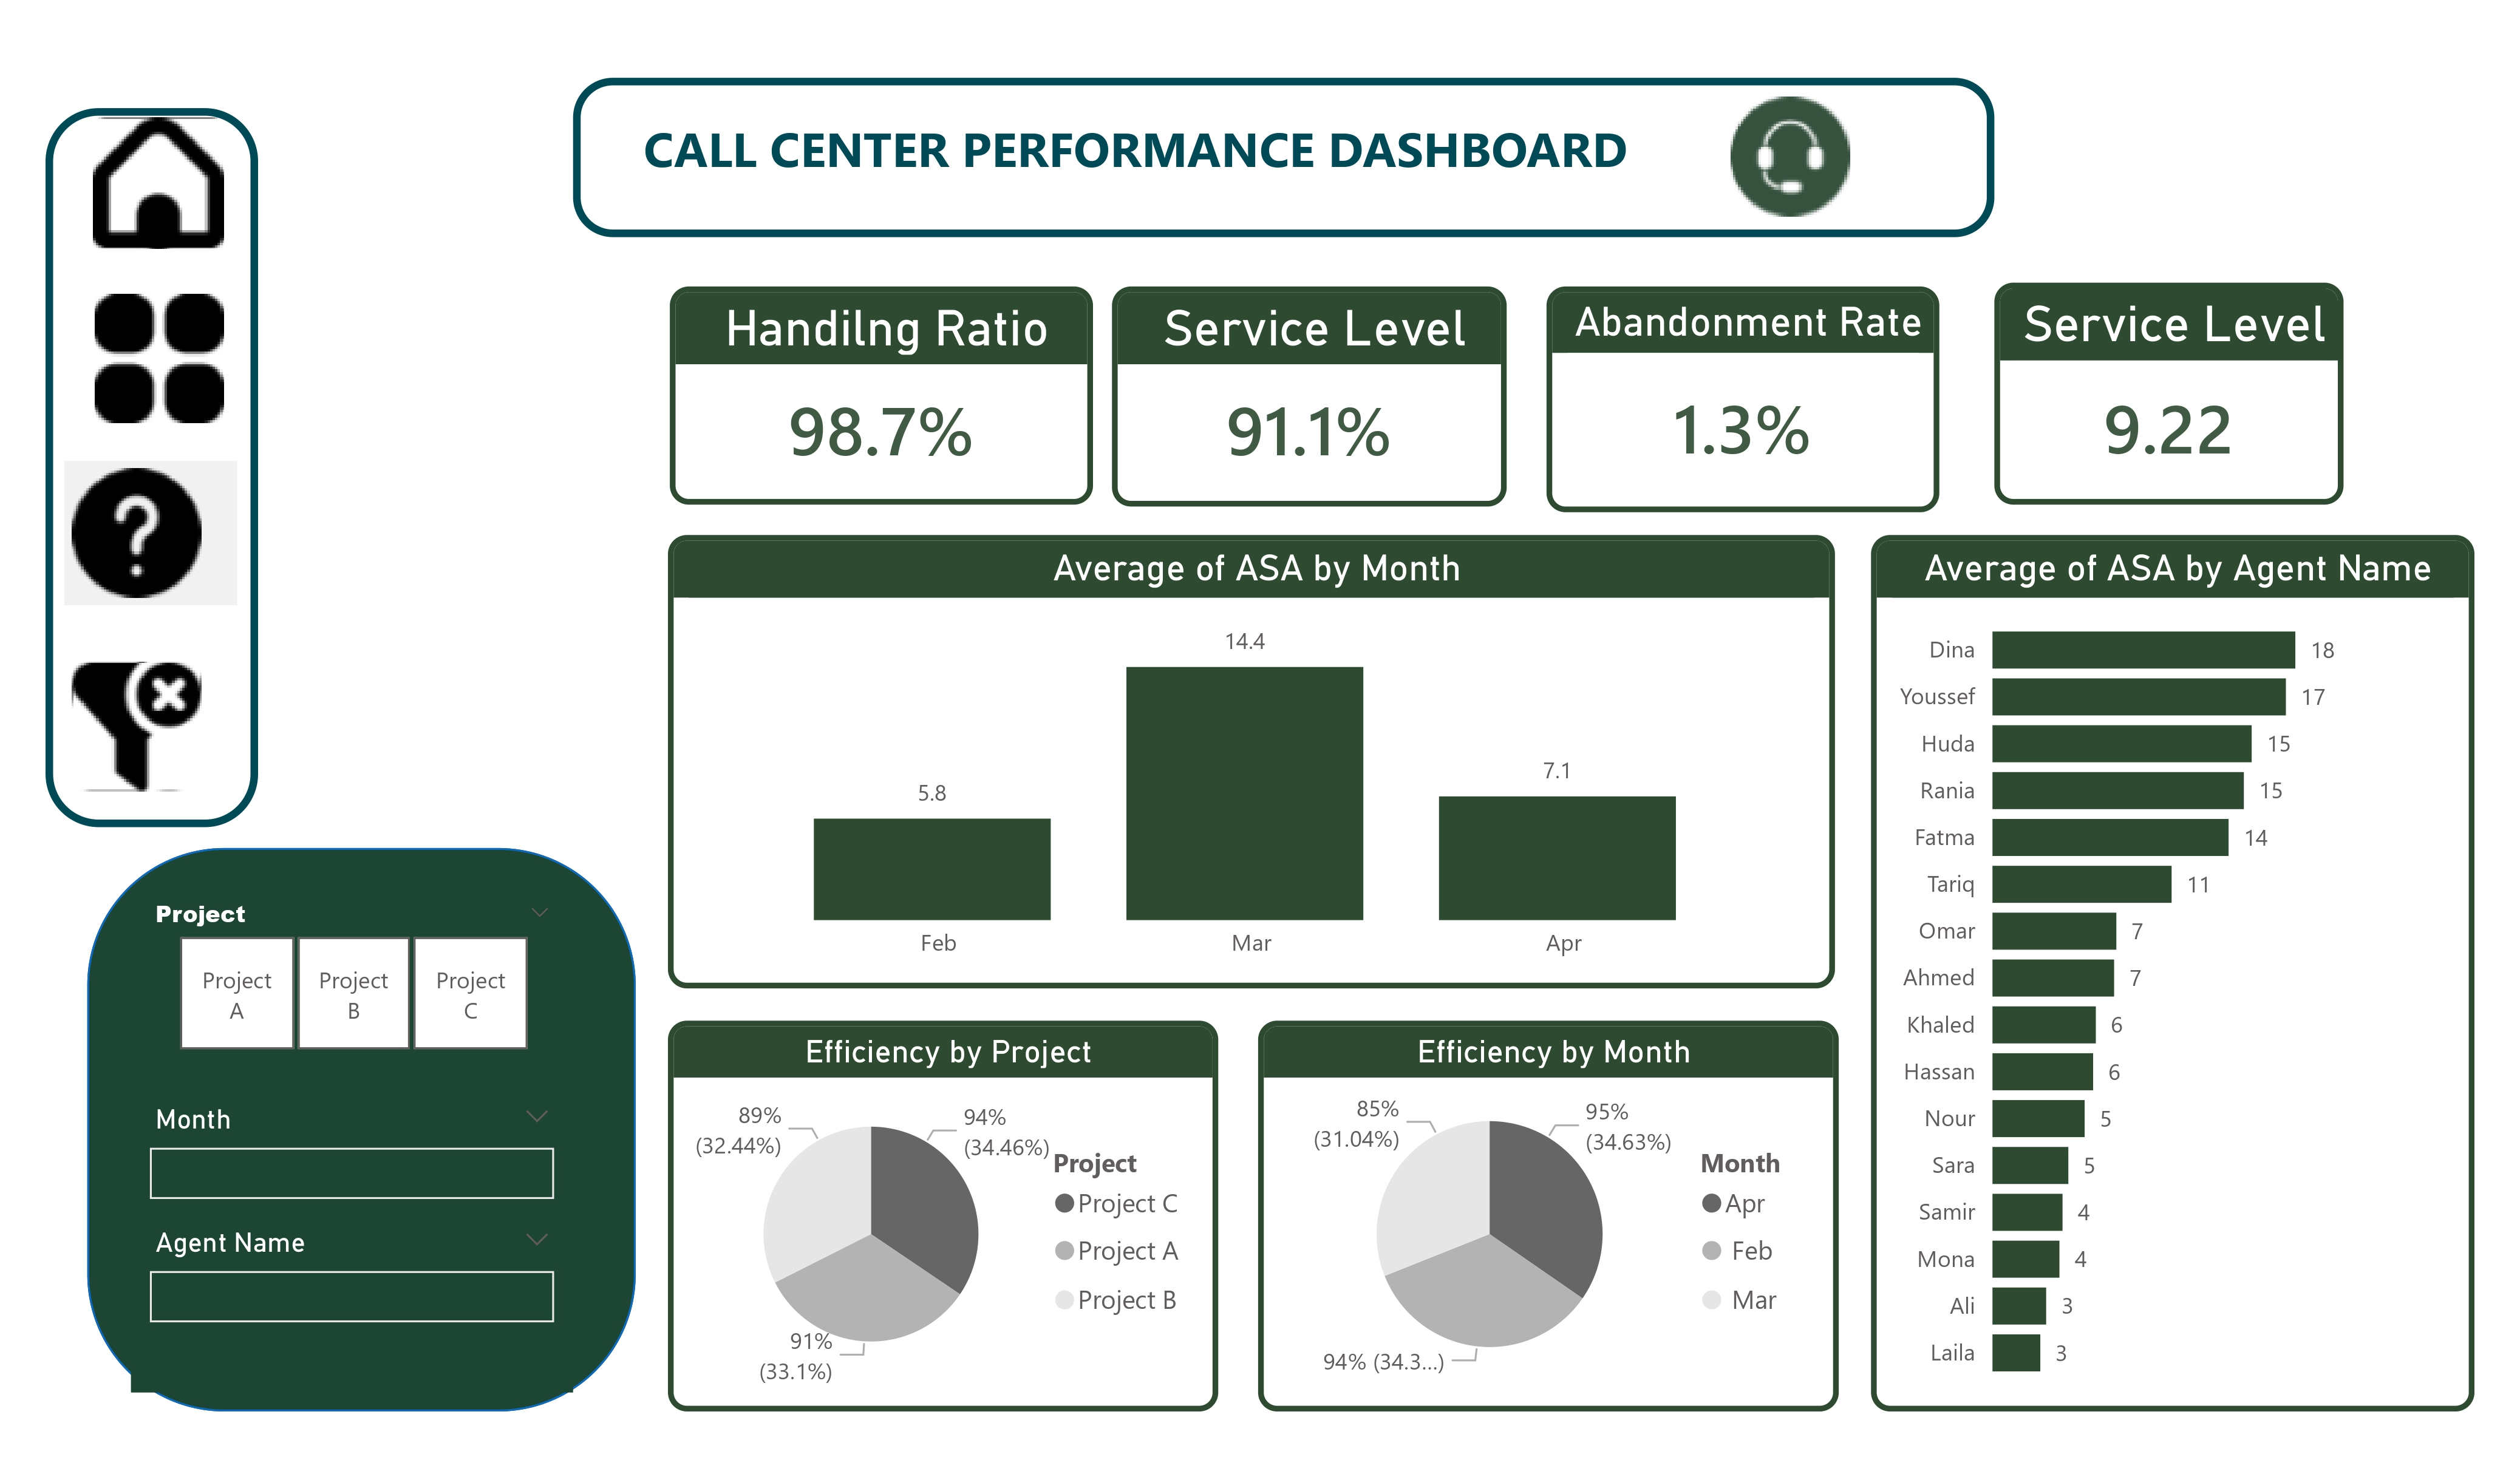

Layout of this report page (visuals, bound fields, positions):
{"tool":"powerbi","page":{"name":"Overview","canvas":[1280,720],"ordinal":1},"visuals":[{"type":"shape","box":[277.9,17.3,748.8,83.5],"z":0},{"type":"actionButton","box":[301,33.1,547.2,40.3],"z":1000},{"type":"shape","box":[0,33.1,112.3,378.7],"z":2000},{"type":"actionButton","box":[884.2,23,154.1,70.6],"z":3000},{"type":"cardVisual","title":"Handilng Ratio","fields":{"Data":["Sailh project powr BI (2).Handled Calls Ratio"]},"box":[328.9,126.6,223,115.6],"z":4000},{"type":"cardVisual","title":"Service Level","fields":{"Data":["Sailh project powr BI (2).Service Level"]},"box":[561.6,126.7,208.8,116.6],"z":5000},{"type":"cardVisual","title":"Abandonment Rate","fields":{"Data":["Sailh project powr BI (2).Abd Rate"]},"box":[791.4,126.6,206.5,119.7],"z":6000},{"type":"cardVisual","title":"Service Level","fields":{"Data":["Avg(Sailh project powr BI (2).ASA)"]},"box":[1026.8,125.2,184.4,117],"z":7000},{"type":"columnChart","fields":{"Y":["Avg(Sailh project powr BI (2).ASA)"],"Category":["Sailh project powr BI (2).Month","Sailh project powr BI (2).Day Name"]},"box":[328.3,257.8,614.9,239],"z":8000},{"type":"pieChart","fields":{"Category":["Sailh project powr BI (2).Project"],"Y":["Sailh project powr BI (2).Efficiency"]},"box":[328.3,514.1,289.4,205.9],"z":9000},{"type":"pieChart","fields":{"Y":["Sailh project powr BI (2).Efficiency"],"Category":["Sailh project powr BI (2).Month"]},"box":[639.4,514.1,305.3,205.9],"z":10000},{"type":"barChart","fields":{"Y":["Avg(Sailh project powr BI (2).ASA)"],"Category":["Sailh project powr BI (2).Agent Name"]},"box":[961.9,257.8,318.2,462.2],"z":11000},{"type":"actionButton","box":[20.6,34.4,125.2,77.1],"z":12000},{"type":"actionButton","box":[21.6,126.7,125.3,76.3],"z":13000},{"type":"actionButton","box":[10.4,321.5,123.5,75.9],"z":15000},{"type":"shape","box":[21.6,423.4,289.4,296.6],"z":16000},{"type":"slicer","fields":{"Values":["Sailh project powr BI (2).Month"]},"box":[44.6,553,233.3,64.8],"z":17000},{"type":"slicer","fields":{"Values":["Sailh project powr BI (2).Project"]},"box":[44.6,443.5,233.3,92.2],"z":18000},{"type":"slicer","fields":{"Values":["Sailh project powr BI (2).Agent Name"]},"box":[44.6,617.8,233.3,92.2],"z":19000},{"type":"actionButton","box":[10.1,218.9,90.7,76.3],"z":20000}]}

Visuals, with their boxes on the page's 1280x720 design canvas (x1, y1, x2, y2). These are canvas units, not pixel positions in the 2520x1457 screenshot, which may show the page scaled, cropped or inside an application window:
shape: bbox=(278, 17, 1027, 101)
actionButton: bbox=(301, 33, 848, 73)
shape: bbox=(0, 33, 112, 412)
actionButton: bbox=(884, 23, 1038, 94)
"Handilng Ratio" cardVisual: bbox=(329, 127, 552, 242)
"Service Level" cardVisual: bbox=(562, 127, 770, 243)
"Abandonment Rate" cardVisual: bbox=(791, 127, 998, 246)
"Service Level" cardVisual: bbox=(1027, 125, 1211, 242)
columnChart - Avg(Sailh project powr BI (2).ASA) x Sailh project powr BI (2).Month: bbox=(328, 258, 943, 497)
pieChart - Sailh project powr BI (2).Project x Sailh project powr BI (2).Efficiency: bbox=(328, 514, 618, 720)
pieChart - Sailh project powr BI (2).Efficiency x Sailh project powr BI (2).Month: bbox=(639, 514, 945, 720)
barChart - Avg(Sailh project powr BI (2).ASA) x Sailh project powr BI (2).Agent Name: bbox=(962, 258, 1280, 720)
actionButton: bbox=(21, 34, 146, 112)
actionButton: bbox=(22, 127, 147, 203)
actionButton: bbox=(10, 322, 134, 397)
shape: bbox=(22, 423, 311, 720)
slicer - Sailh project powr BI (2).Month: bbox=(45, 553, 278, 618)
slicer - Sailh project powr BI (2).Project: bbox=(45, 444, 278, 536)
slicer - Sailh project powr BI (2).Agent Name: bbox=(45, 618, 278, 710)
actionButton: bbox=(10, 219, 101, 295)
